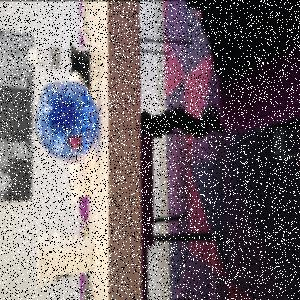Cup: (38, 230, 96, 287)
Plastic-bottle: (35, 80, 99, 164), (29, 44, 72, 72)
